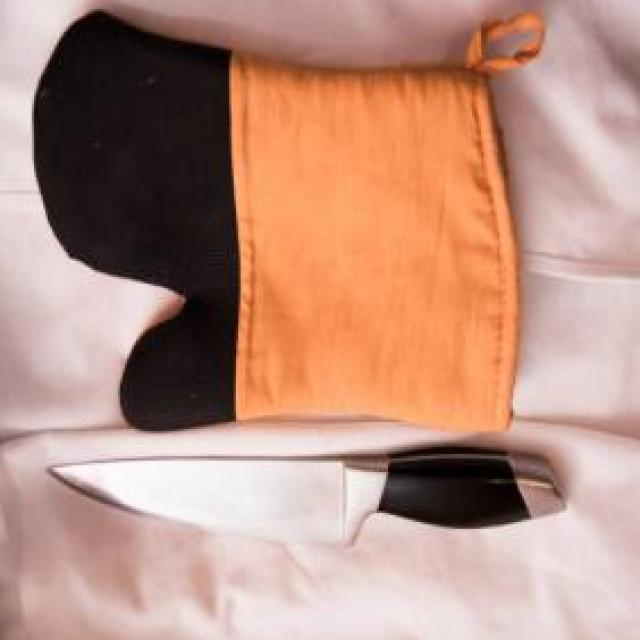knife: (45, 453, 572, 547)
